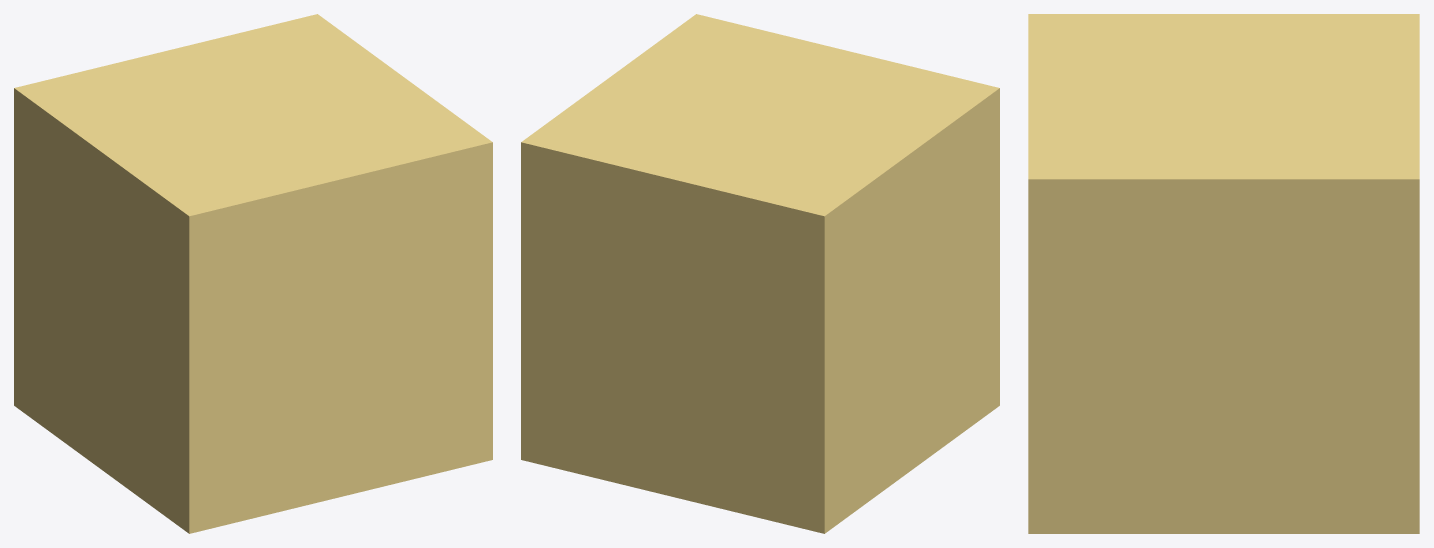
The model's file is 105_sunwheel_petal_block.glb.
The picture shows the model from 3 angles, left to right: view 1: azimuth 30°, elevation 25°; view 2: azimuth 150°, elevation 25°; view 3: azimuth 270°, elevation 25°; orthographic projection. The views are drawn at different scales.
Parts seen in each view (by area): view 1: Core; view 2: Core; view 3: Core.
Boxes of the visible parts, x1,y1,x2,y2 form: Core: [14, 14, 492, 533]; Core: [521, 14, 999, 533]; Core: [1028, 14, 1419, 533].
Size of the model in its own units: 1 by 1 by 1.
